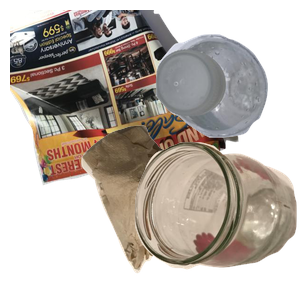glass: (132, 139, 300, 300)
paper: (10, 10, 241, 188)
plastic: (153, 31, 300, 161)
trash: (79, 123, 281, 300)
